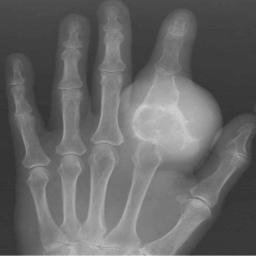cancer: (129, 74, 194, 156)
